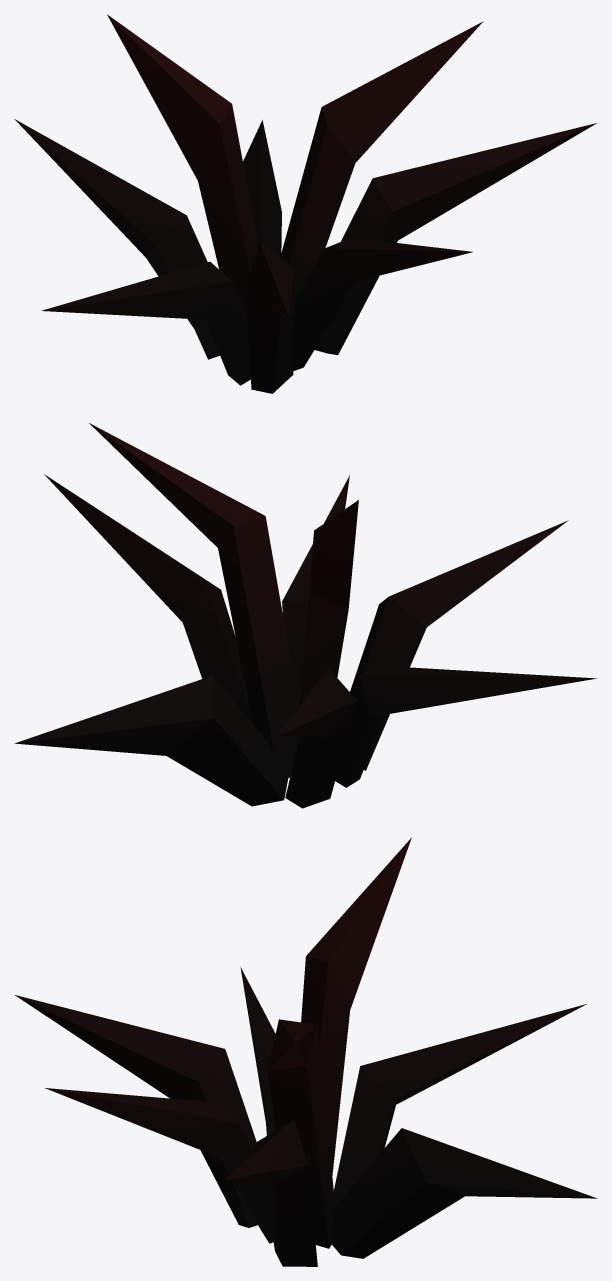
File: entity16294.glb
The picture shows the model from 3 angles, top to bottom: view 1: azimuth 30°, elevation 25°; view 2: azimuth 150°, elevation 25°; view 3: azimuth 270°, elevation 25°; orthographic projection. The views are drawn at different scales.
Visible parts, largest first — view 1: node_SM_Env_Grass_01 (8); view 2: node_SM_Env_Grass_01 (8); view 3: node_SM_Env_Grass_01 (8).
Boxes of the visible parts, <box> form: node_SM_Env_Grass_01 (8): <box>14,14,596,393</box>; node_SM_Env_Grass_01 (8): <box>14,423,597,808</box>; node_SM_Env_Grass_01 (8): <box>15,837,597,1266</box>.
Bounding box in the file's own units: 1.93 × 1.17 × 1.73.
1 material, 1 textured.
